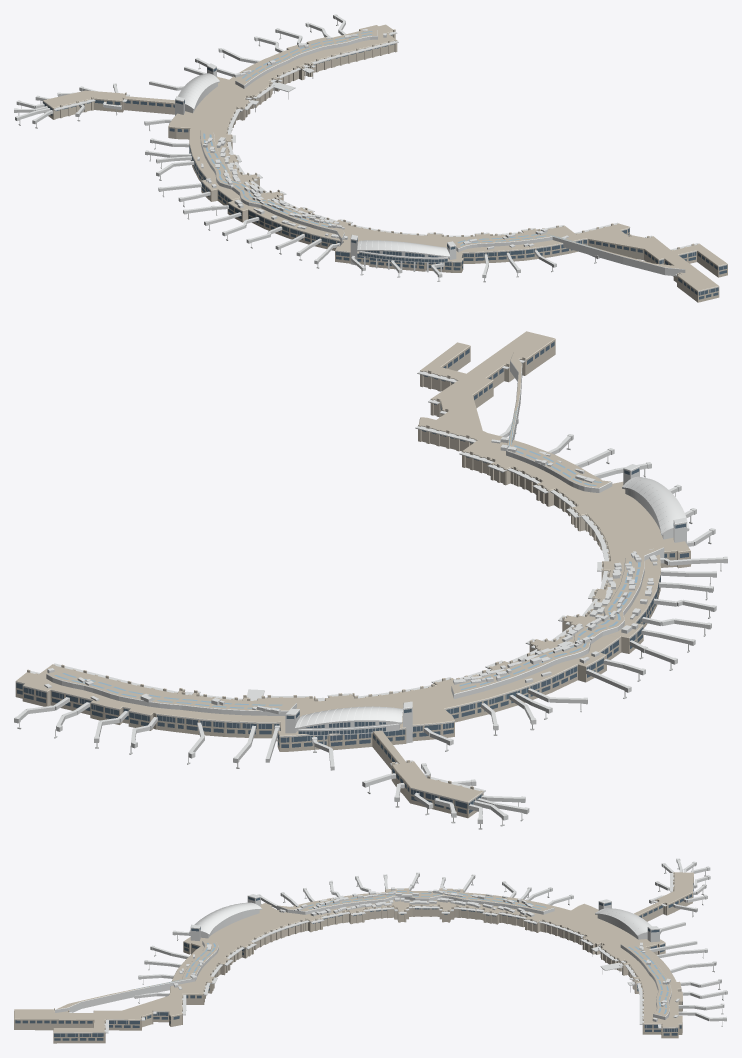
File: dal-dfw-terminal-b.detail.glb
3 renders of one model, top to bottom at view 1: azimuth 30°, elevation 25°; view 2: azimuth 150°, elevation 25°; view 3: azimuth 270°, elevation 25°, orthographic. The views are drawn at different scales.
Visible parts, largest first — view 1: DFW Airport Terminal B; view 2: DFW Airport Terminal B; view 3: DFW Airport Terminal B.
Boxes of the visible parts, x1,y1,x2,y2 form: DFW Airport Terminal B: (14, 14, 727, 302); DFW Airport Terminal B: (14, 331, 727, 829); DFW Airport Terminal B: (14, 858, 727, 1043).
Size of the model in its own units: 446 by 28.6 by 763.
